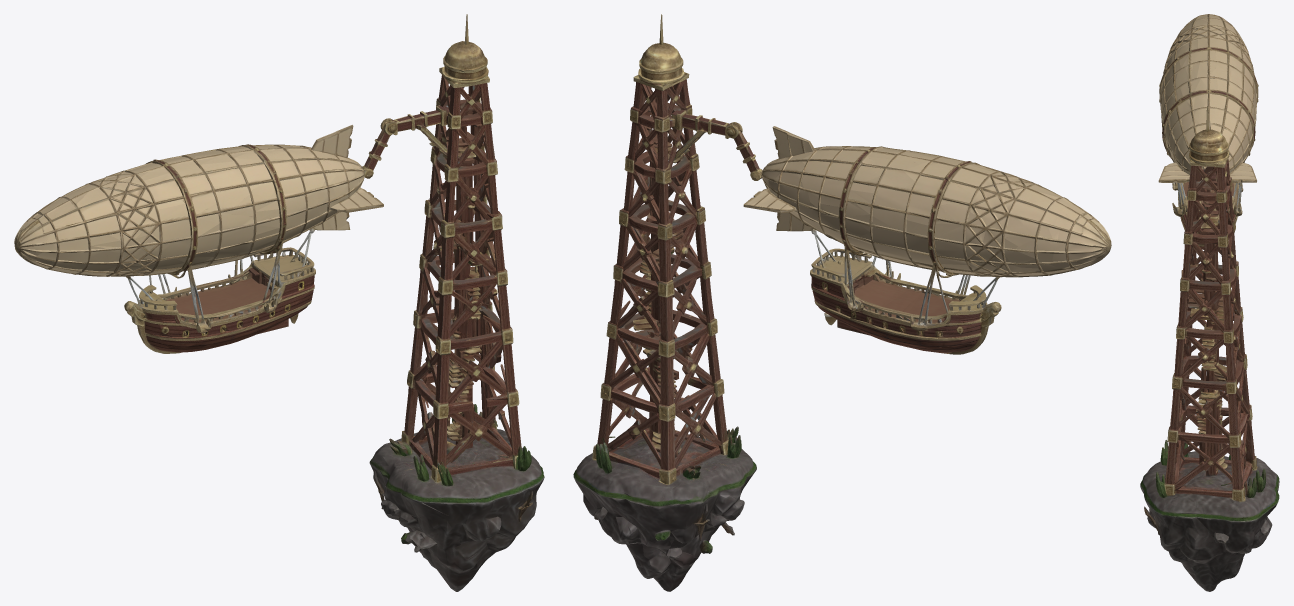
3 renders of one model, left to right at view 1: azimuth 30°, elevation 25°; view 2: azimuth 150°, elevation 25°; view 3: azimuth 270°, elevation 25°, orthographic. The views are drawn at different scales.
Visible parts, largest first — view 1: Mesh_0; view 2: Mesh_0; view 3: Mesh_0.
Boxes of the visible parts, box(x1,y1,x2,y2) form: Mesh_0: box(14, 14, 544, 591); Mesh_0: box(573, 14, 1111, 591); Mesh_0: box(1140, 14, 1279, 591).
Bounding box in the file's own units: 1.78 × 1.9 × 0.4901.
Materials: 1 (1 with a texture image).
